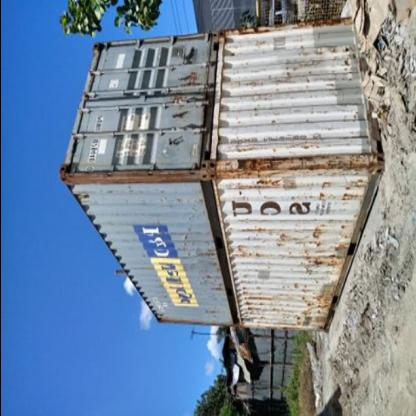Damage: (216, 157, 386, 177), (66, 166, 207, 186), (288, 44, 360, 81), (289, 276, 332, 331), (304, 223, 350, 273), (230, 93, 288, 132), (228, 132, 326, 152), (104, 188, 198, 207), (234, 279, 266, 321), (227, 71, 292, 91), (178, 228, 215, 262), (320, 179, 364, 206), (194, 268, 224, 296), (230, 238, 262, 263), (278, 228, 296, 260), (251, 179, 295, 192), (247, 221, 272, 240), (244, 36, 270, 53), (166, 132, 188, 152), (180, 43, 200, 65), (128, 262, 156, 276), (178, 71, 196, 89), (172, 109, 190, 123), (200, 304, 218, 316), (75, 191, 91, 202)
